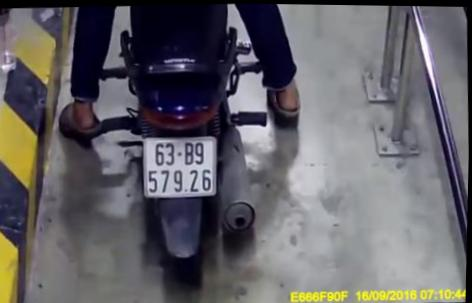LP: (142, 132, 220, 198)
